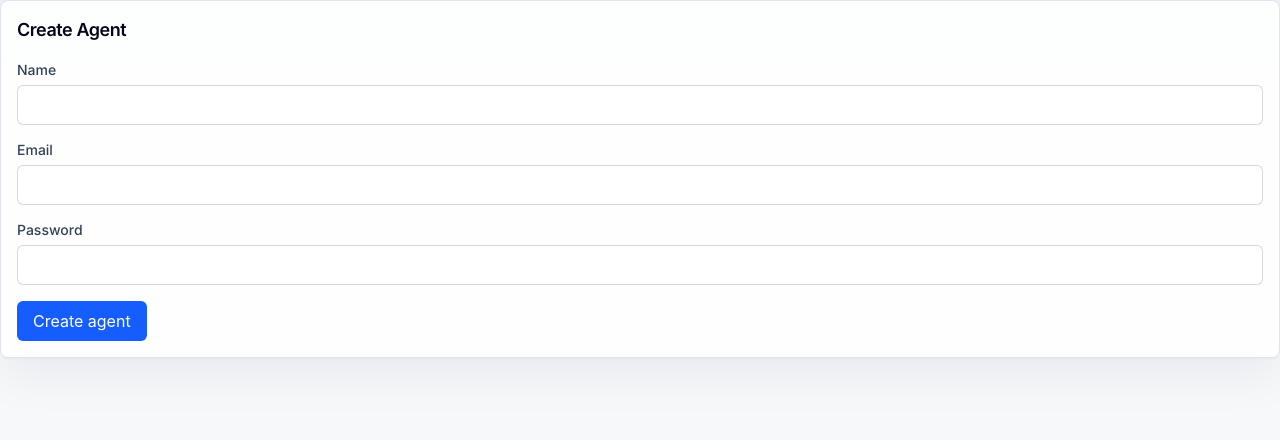
CreateUserForm › shows a red form error when creating a user fails
In the field labelled "Name": x=640, y=105 [17, 85, 1263, 125], type "Existing Agent"
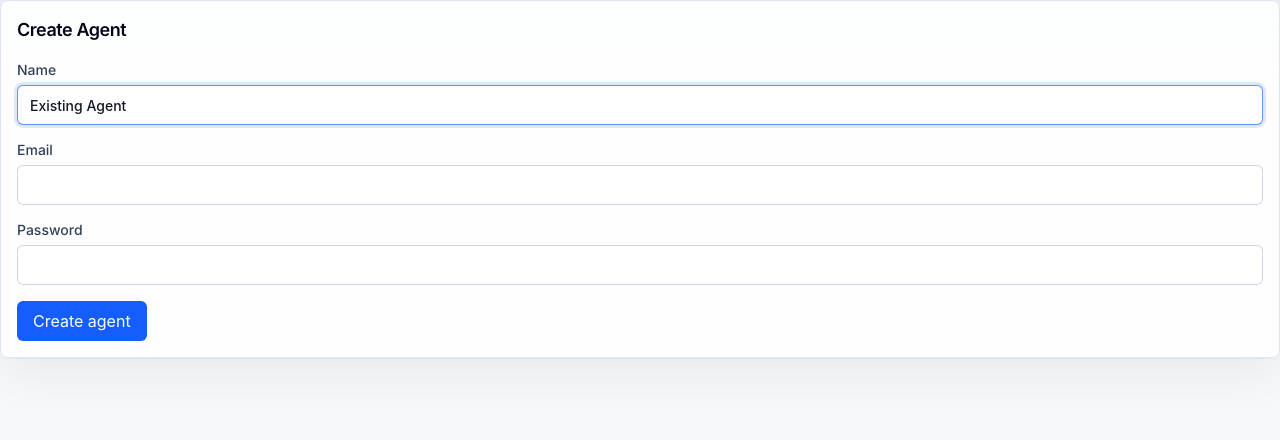
In the field labelled "Email": x=640, y=185 [17, 165, 1263, 205], type "agent@example.com"
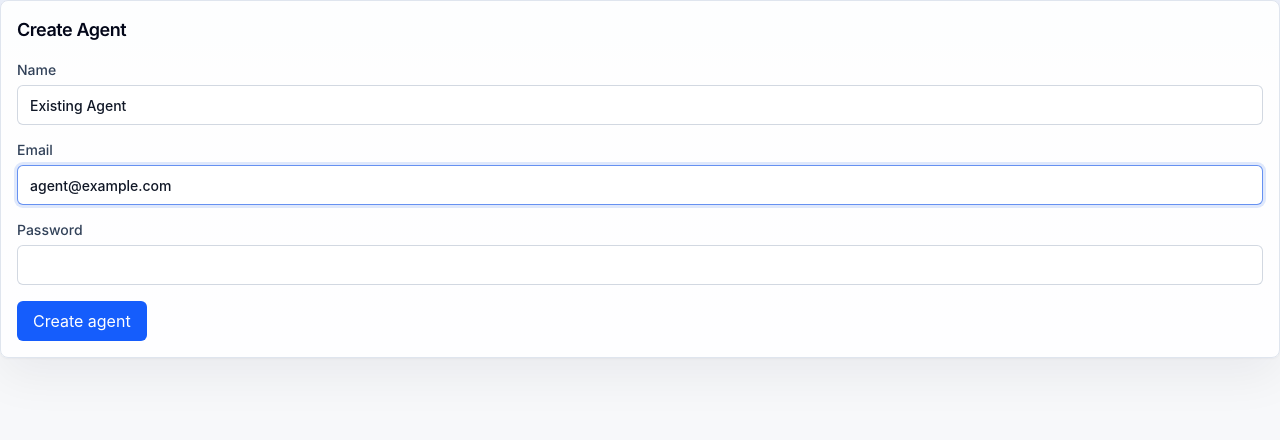
In the password field labelled "Password": x=640, y=265 [17, 245, 1263, 285], type "password123"
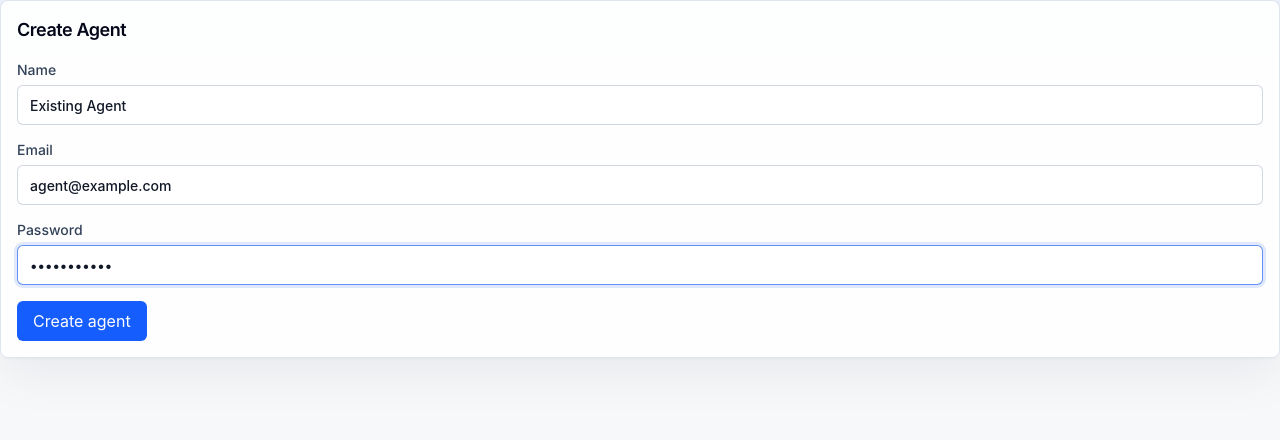
Click the button "Create agent": x=82, y=321 [17, 301, 147, 341]
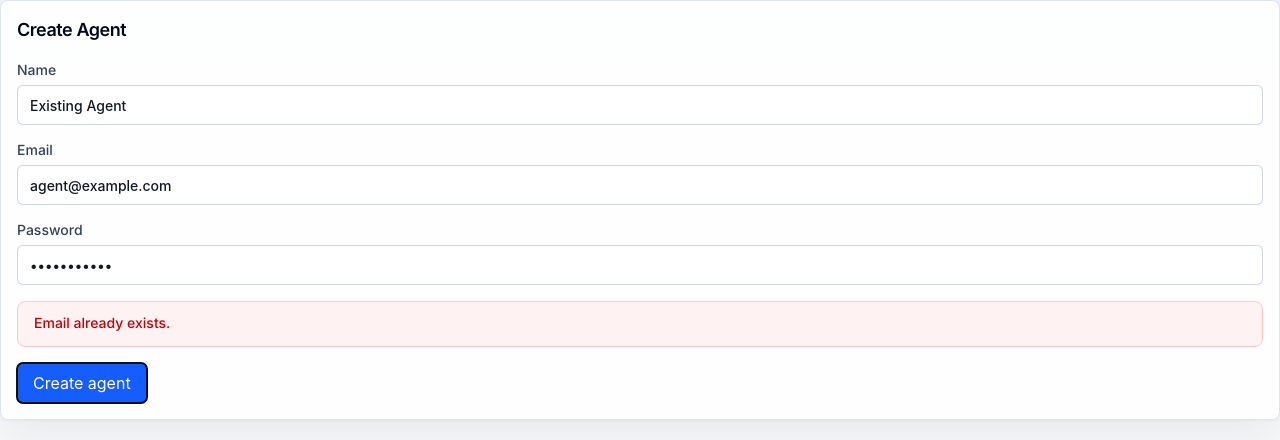
Expected: the message reads "Email already exists.", [34, 315, 170, 332]
